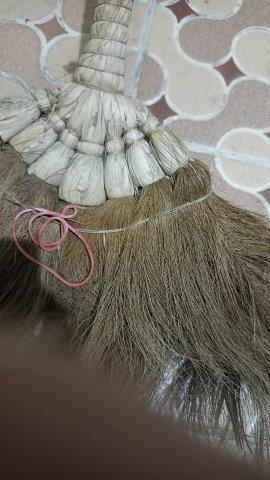karet: (14, 204, 95, 287)
